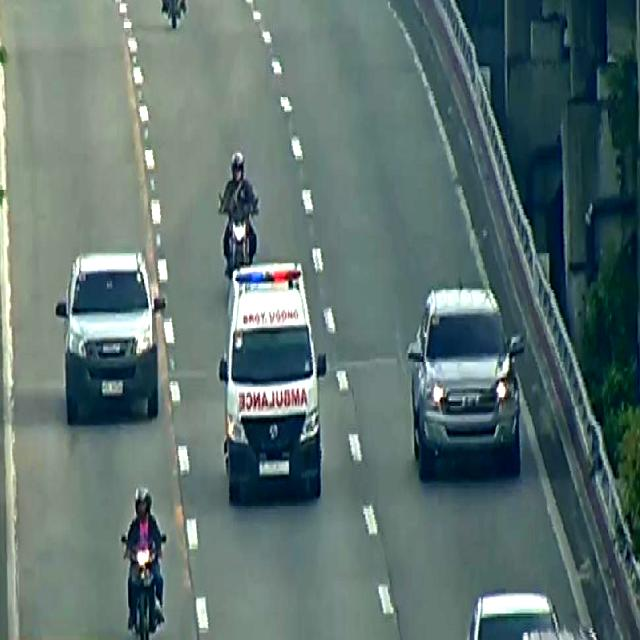emergency: (218, 262, 326, 500)
